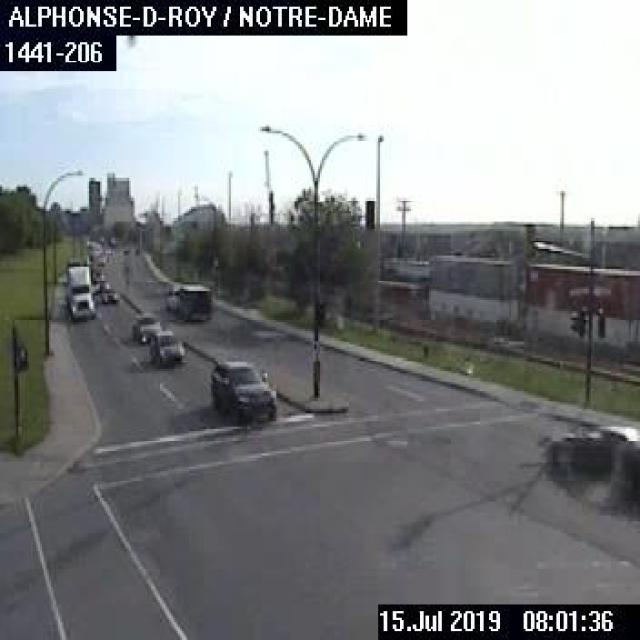vehicle: (549, 422, 638, 498), (207, 353, 275, 418), (164, 280, 209, 320), (64, 259, 94, 315), (150, 331, 182, 367), (130, 310, 162, 342), (99, 285, 117, 303), (91, 263, 104, 281), (95, 276, 108, 292)
